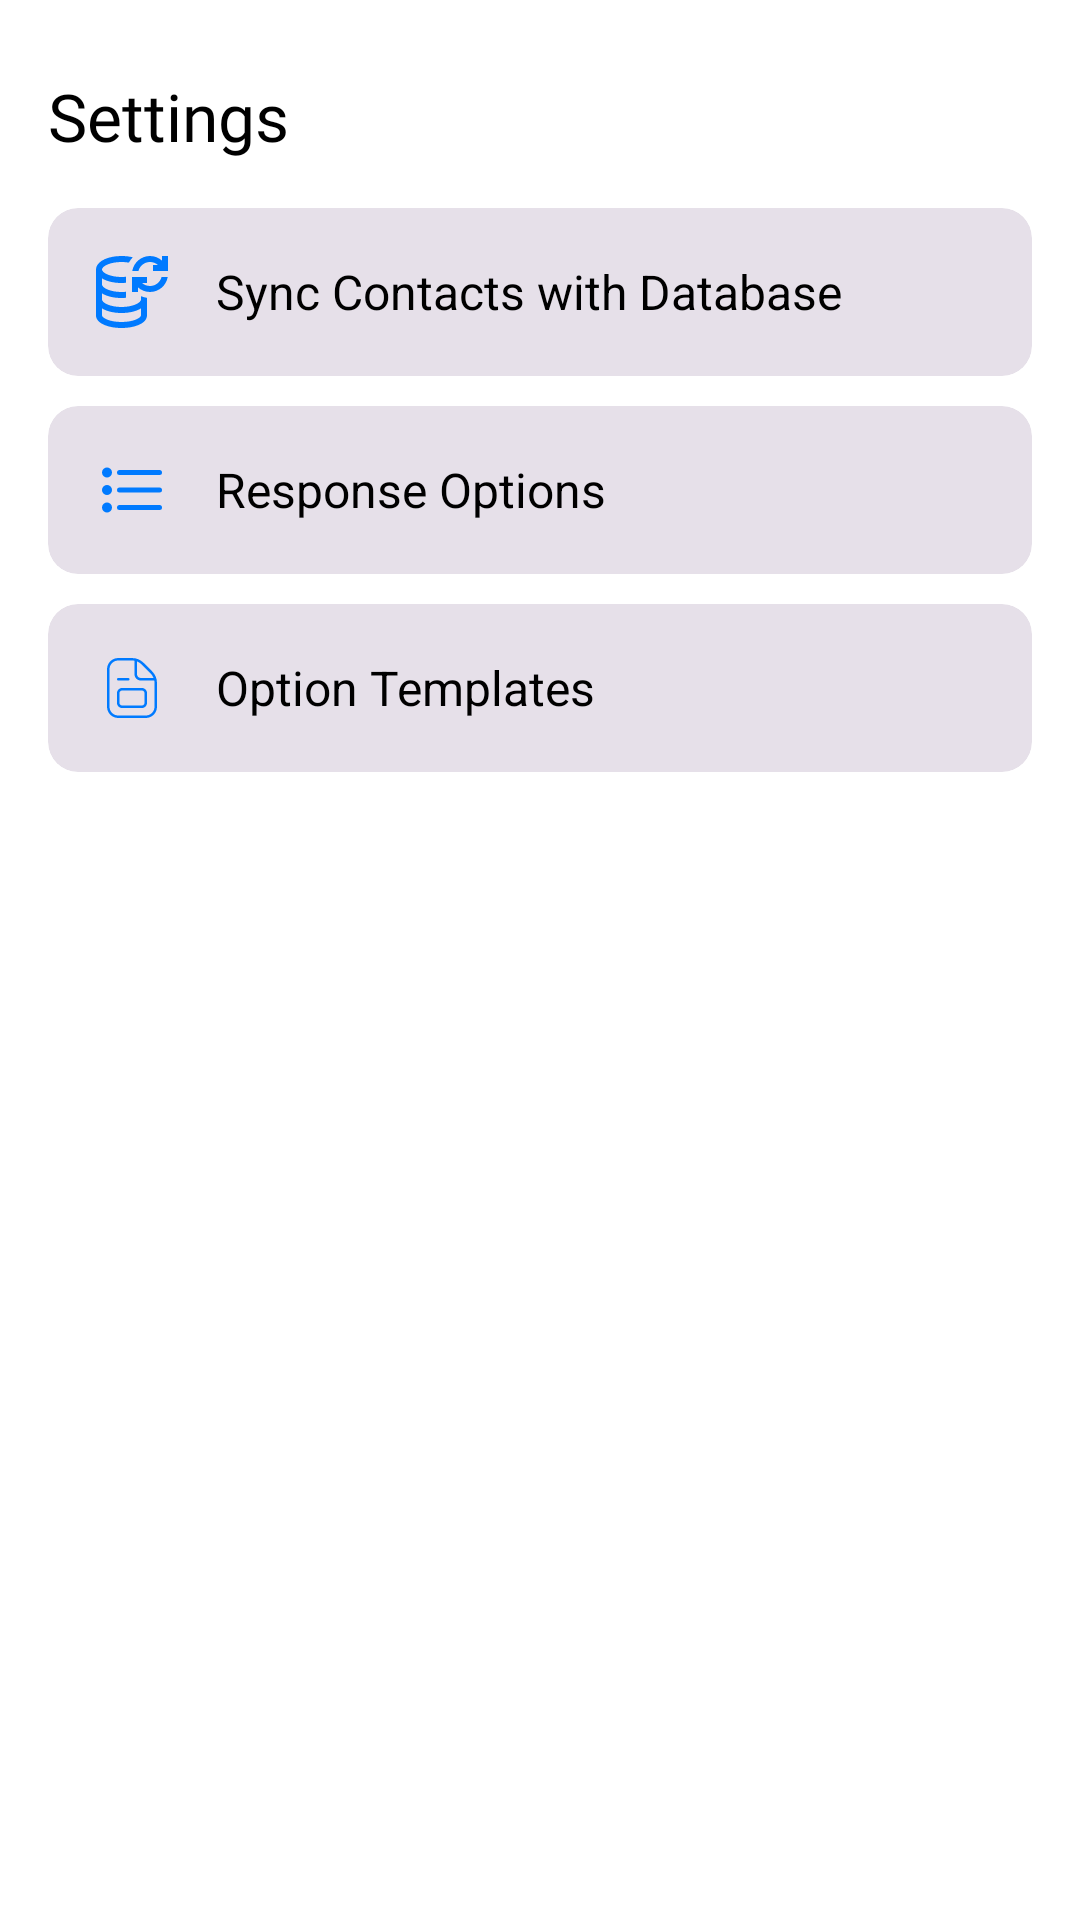

Named icons in this screenshot (1080×1920) and their centers, [x,y]:
list: [132,490]
